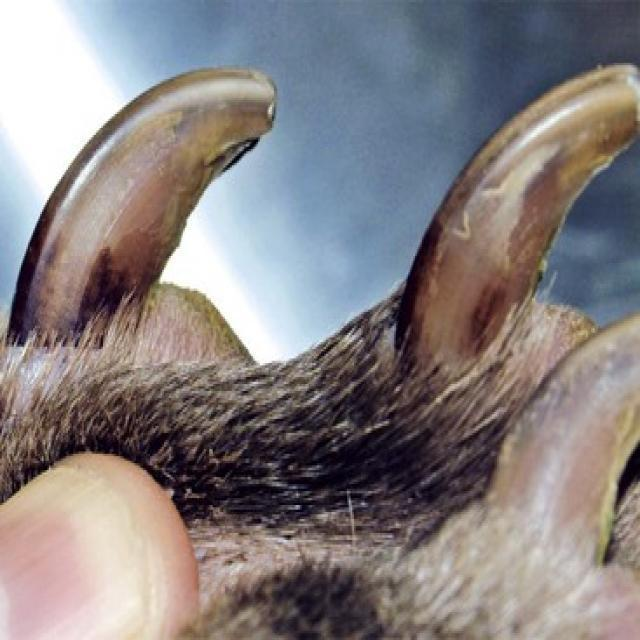fungal infection: (13, 209, 154, 346), (412, 208, 531, 360), (396, 288, 429, 369)
